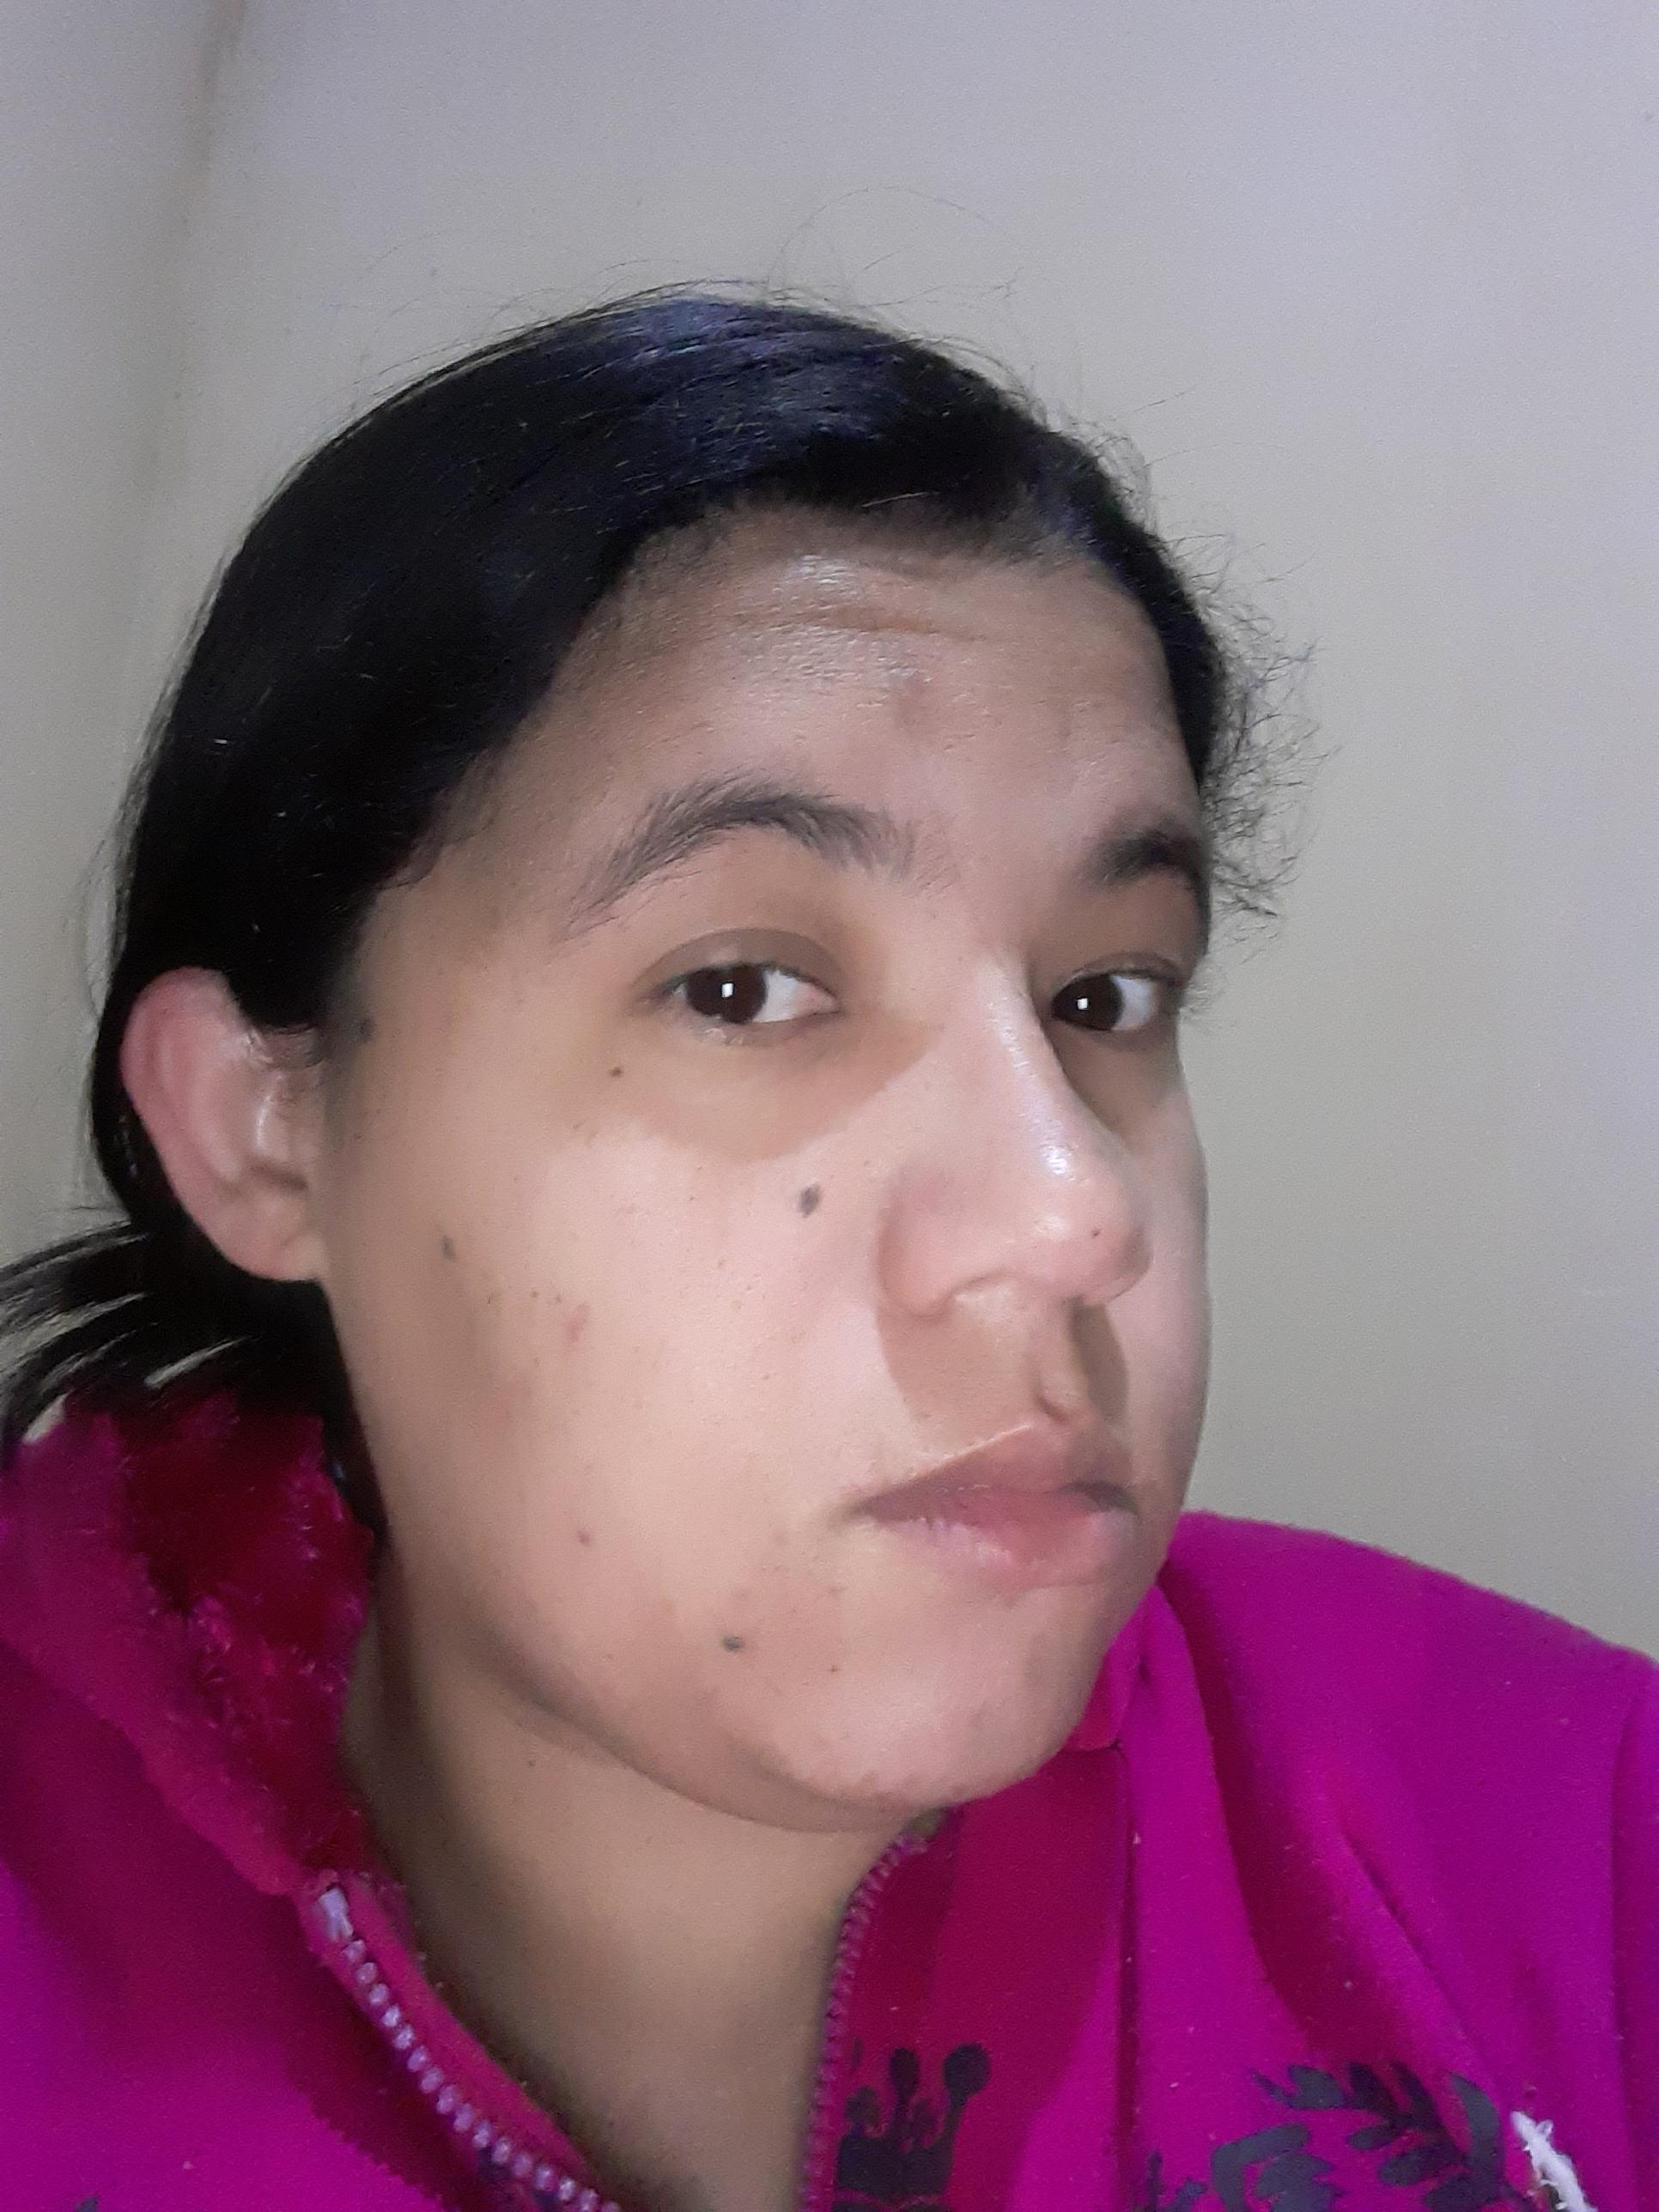Acne: (1007, 1116, 1094, 1205), (857, 1750, 929, 1811), (559, 1282, 610, 1355), (551, 1515, 601, 1554), (1025, 1620, 1072, 1660), (807, 1569, 856, 1608), (965, 1700, 1002, 1733)
